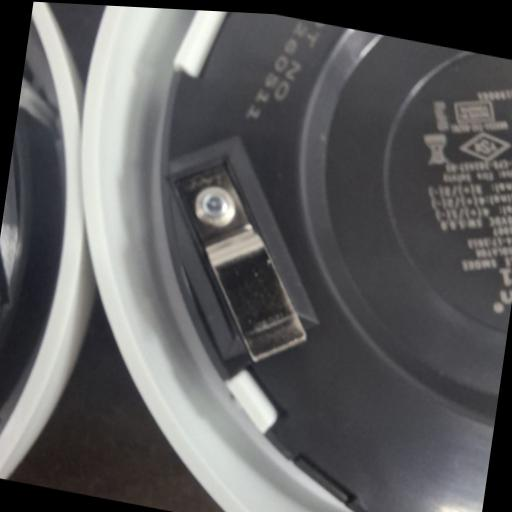yaysiz: (156, 153, 330, 374)
